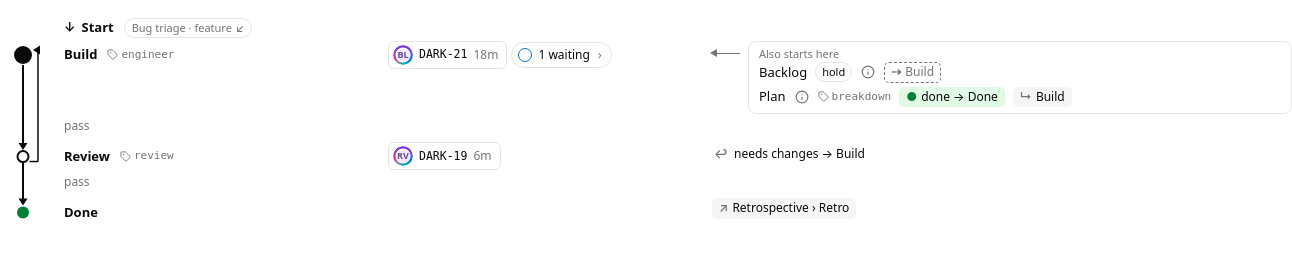
the selected Task's strip (vf-7) › selecting DARK-21's chip puts its way above the line: the pill, its holder, key and age, what it can do next, and ×
The width and height of the screenshot is (1292, 278).
Check: the element "DARK-21's way" is not shown
Click the button "BL DARK-21 18m" at [448, 55], box [388,41,507,69]
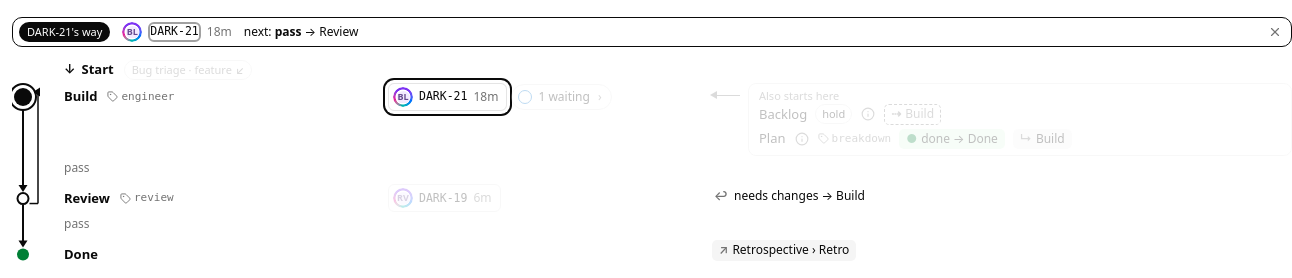
Check: the element "DARK-21's way" is shown, box [27,24,102,39]
Check: the picture named "builder (agent)" is shown, box [122,22,142,42]
Check: the element "DARK-21's way" shows "18m", box [207,23,232,40]
